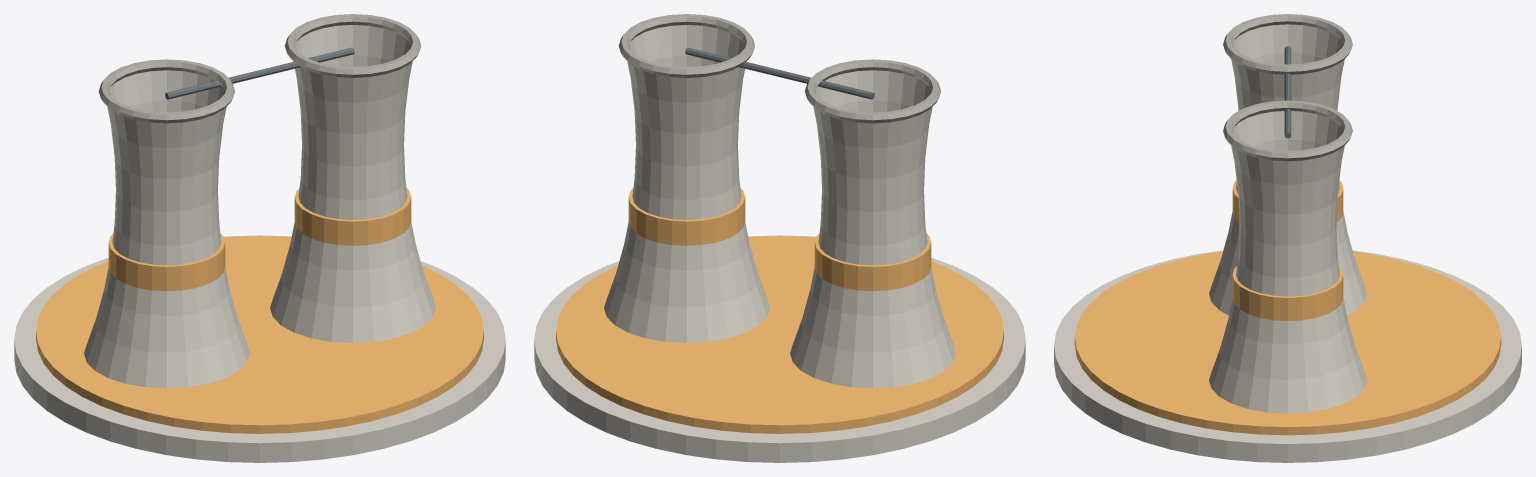
Rendered from cooling-towers.glb.
3 views of the same model, side by side, from view 1: azimuth 30°, elevation 25°; view 2: azimuth 150°, elevation 25°; view 3: azimuth 270°, elevation 25° (orthographic). The views are drawn at different scales.
Visible parts, largest first — view 1: Cone.004; view 2: Cone.004; view 3: Cone.004.
Boxes of the visible parts, x1,y1,x2,y2 form: Cone.004: (14,14,505,462); Cone.004: (534,14,1025,462); Cone.004: (1054,14,1521,462).
Bounding box in the file's own units: 2.7 × 1.79 × 2.7.
